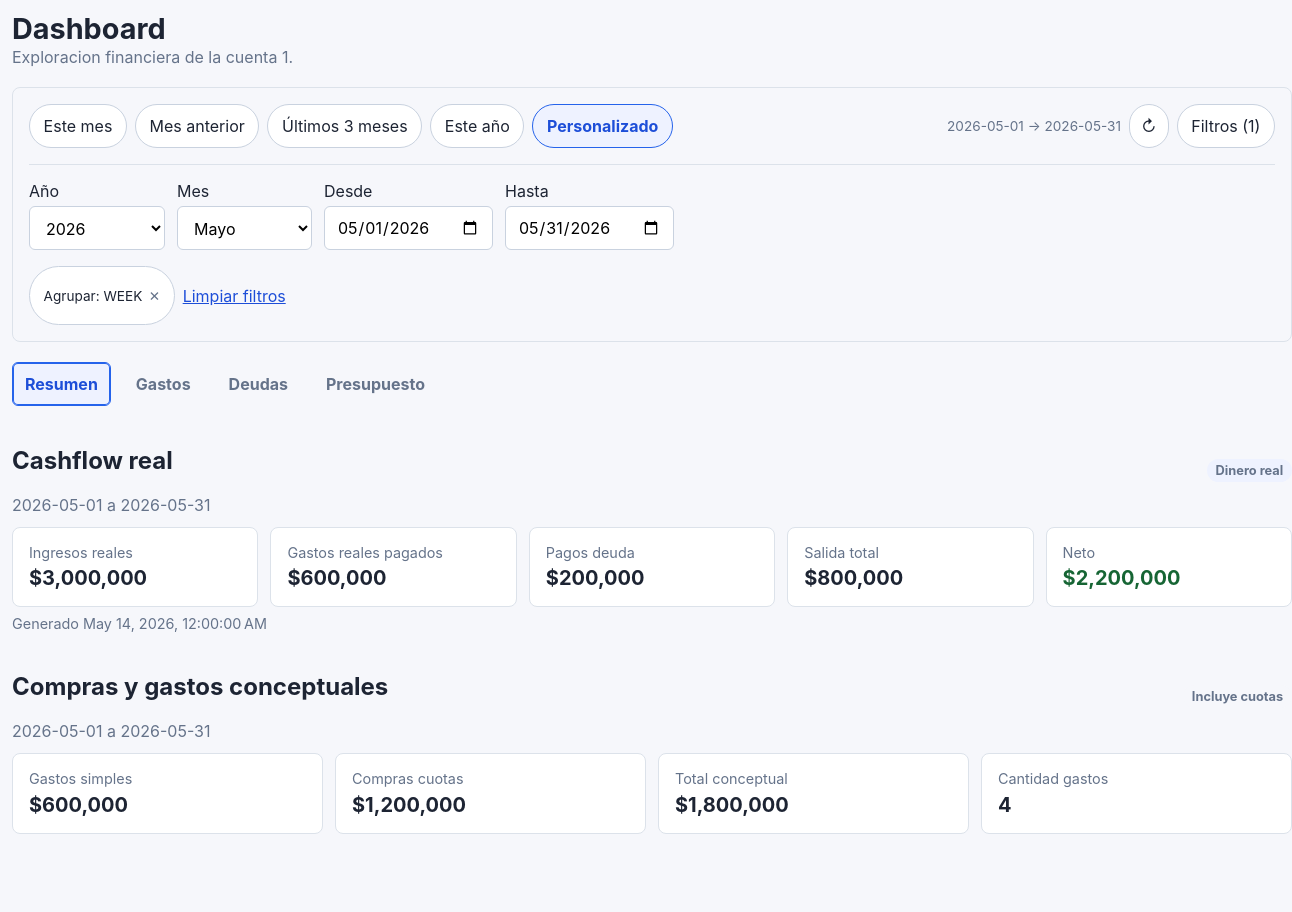
Test: DashboardPageComponent › shows payment method type empty state in the expenses tab
This screenshot has width=1292, height=912.
Click the tab "Gastos": click(163, 384) [123,362,204,406]
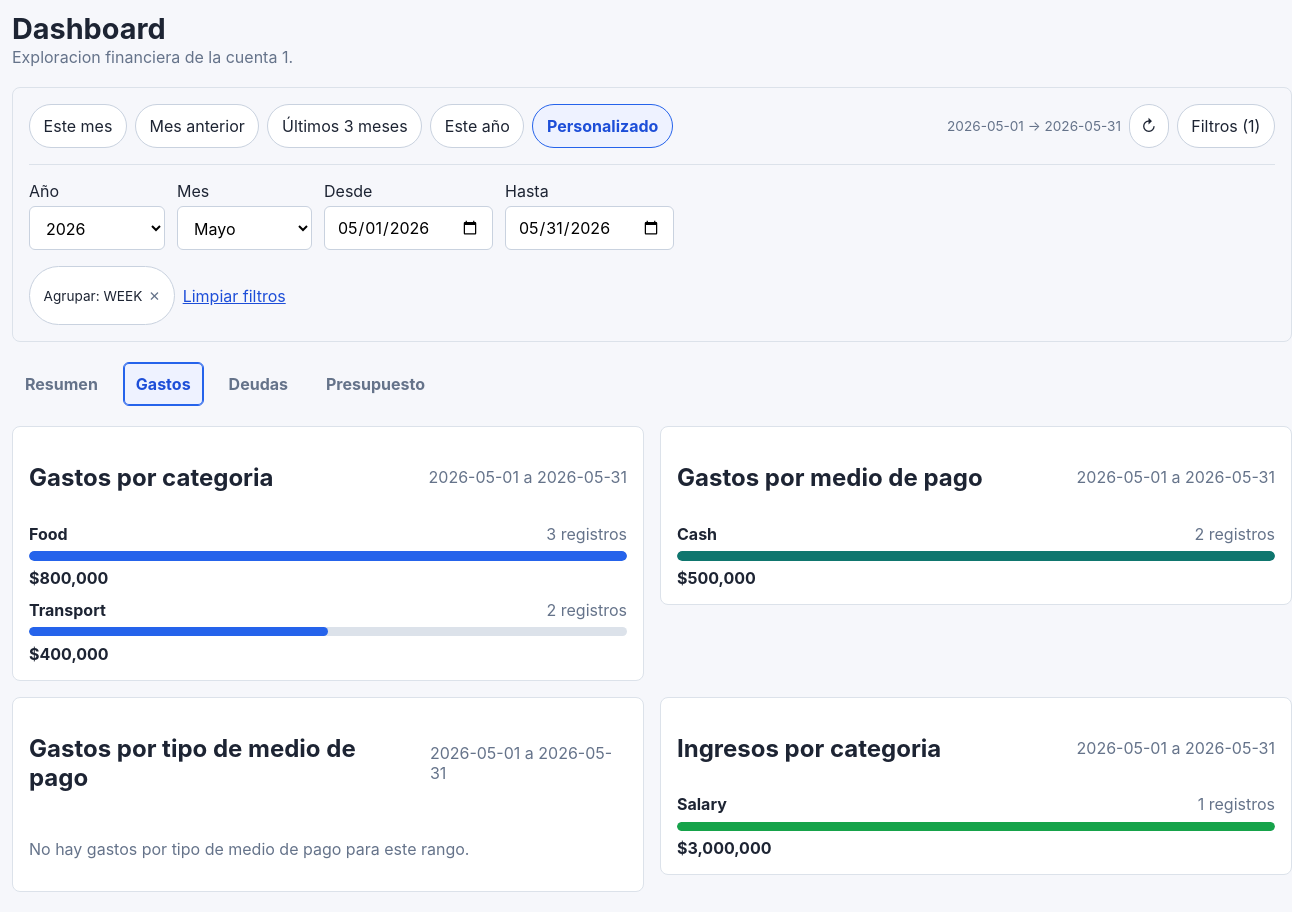
Expected: the text "No hay gastos por tipo de medio de pago para este rango" is shown, [29,840,469,860]
